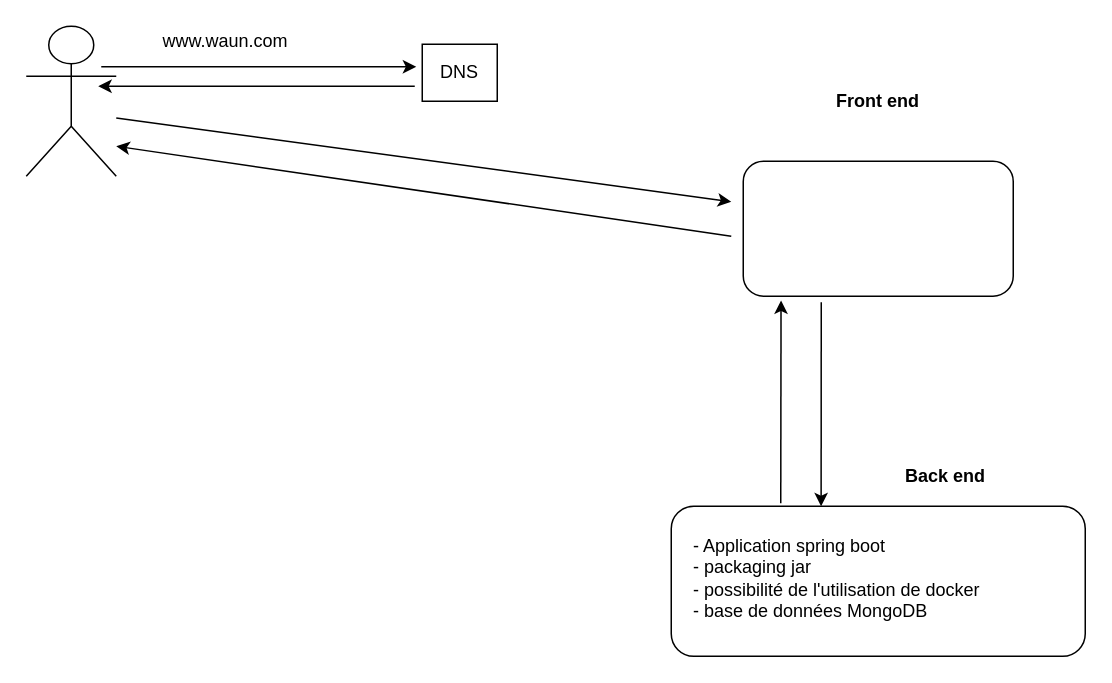
This 1112x683 diagram has some shape labels left out. Here are the shapes that lost their labels. From the top down, the centre of each, then its label:
[70,100]: Actor
[877,228]: Angular version 9 - Bootstrap 4 -zmdi icons ... -NGinx comme serveur http
